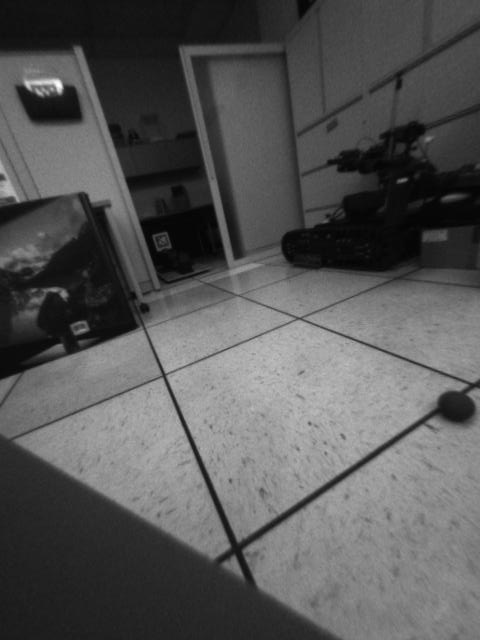dogtoy: (432, 375, 480, 427)
